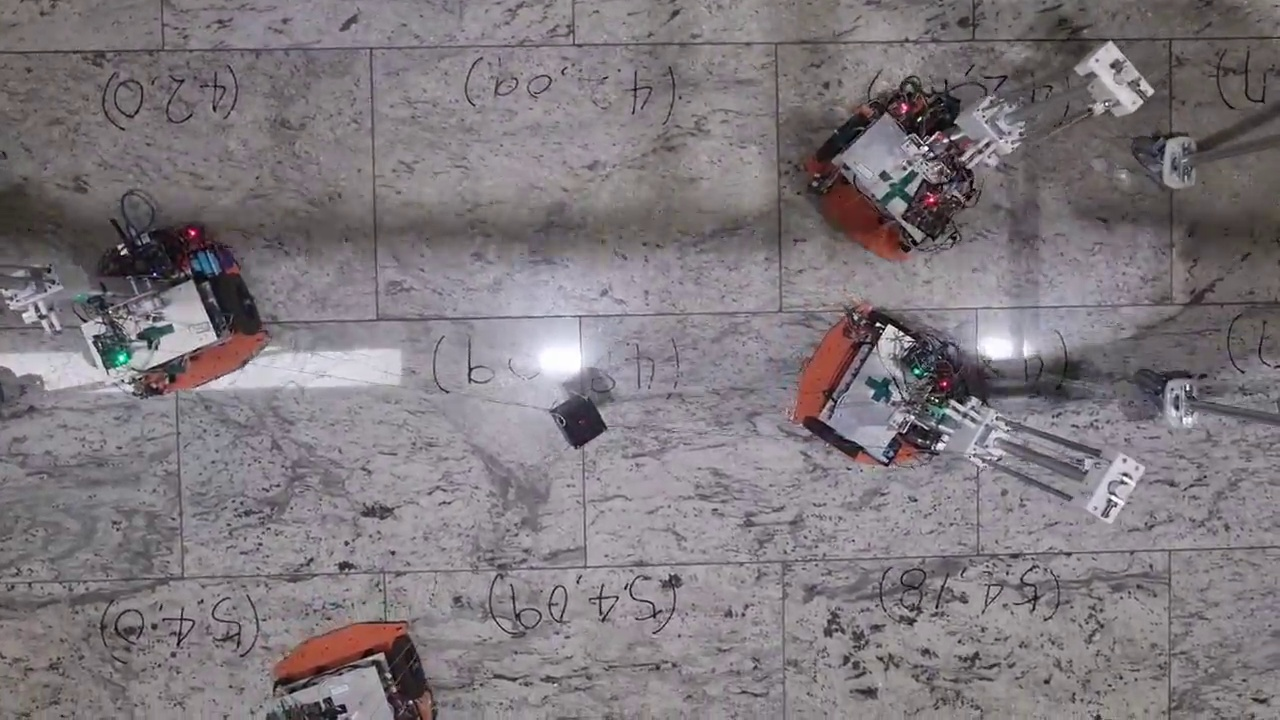e0: (551, 392, 609, 450)
r1: (804, 312, 928, 460)
r2: (814, 113, 956, 253)
r3: (106, 273, 261, 386)
r4: (274, 653, 427, 718)
y_+_axis_vector: (783, 551, 1170, 562)
y_-_axis_vector: (384, 562, 783, 572)
